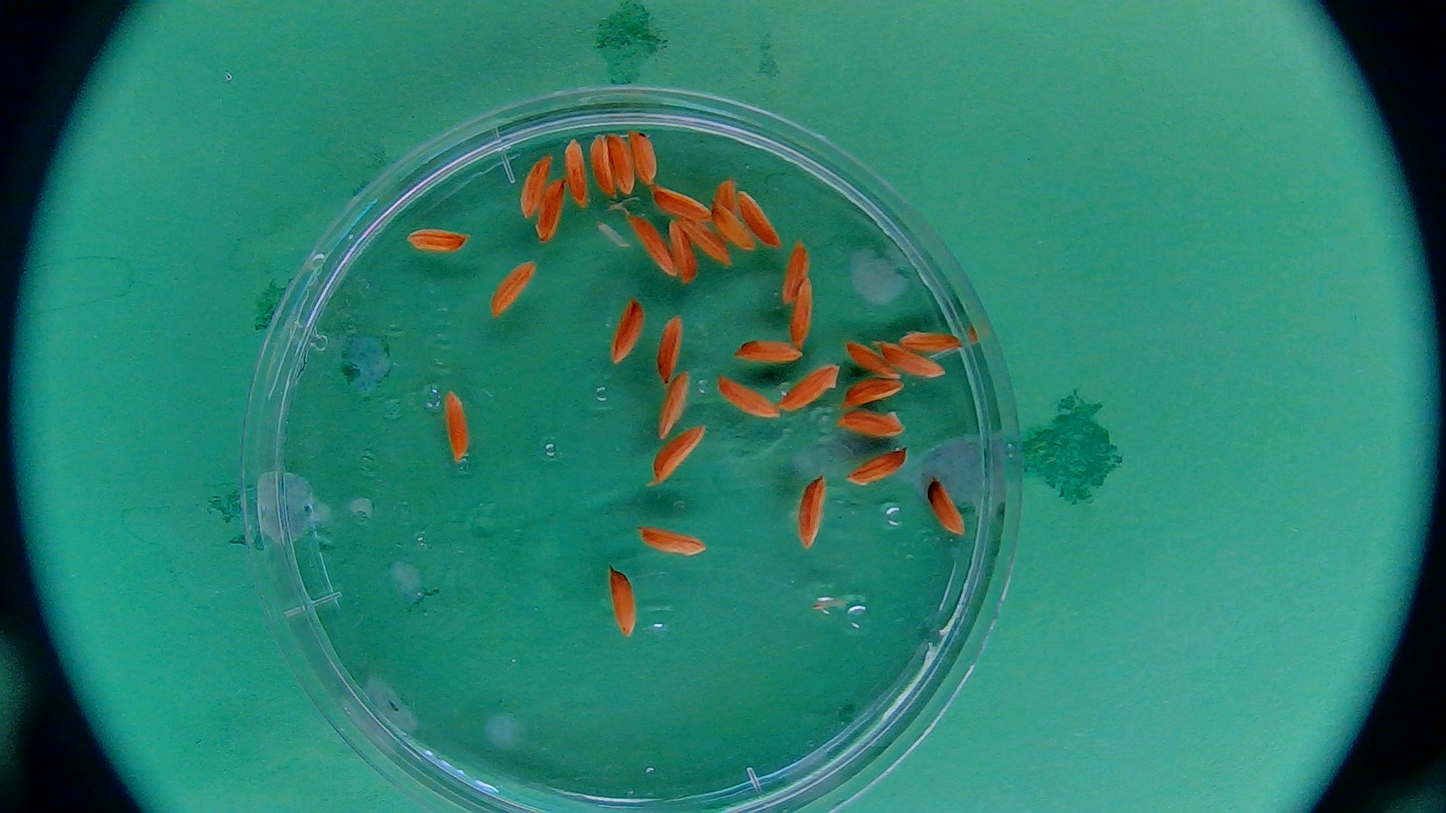no: (624, 209, 679, 280), (648, 425, 707, 489), (715, 370, 781, 425), (732, 184, 786, 251), (779, 359, 840, 414), (490, 256, 538, 317), (679, 216, 734, 269), (657, 368, 695, 444), (874, 341, 944, 382), (842, 336, 905, 381), (926, 473, 968, 540), (602, 566, 640, 636), (654, 182, 715, 225), (405, 221, 473, 259), (709, 201, 758, 253), (609, 297, 645, 367), (557, 137, 593, 207), (664, 217, 701, 284), (842, 377, 908, 414), (799, 474, 830, 552), (654, 314, 687, 387), (846, 448, 911, 485), (587, 129, 620, 200), (841, 406, 904, 443), (603, 132, 640, 194), (519, 153, 554, 218), (535, 176, 567, 244), (441, 391, 471, 461), (625, 129, 663, 184), (733, 335, 805, 364), (640, 526, 703, 559), (901, 327, 966, 356), (779, 238, 805, 309), (792, 279, 816, 350)
